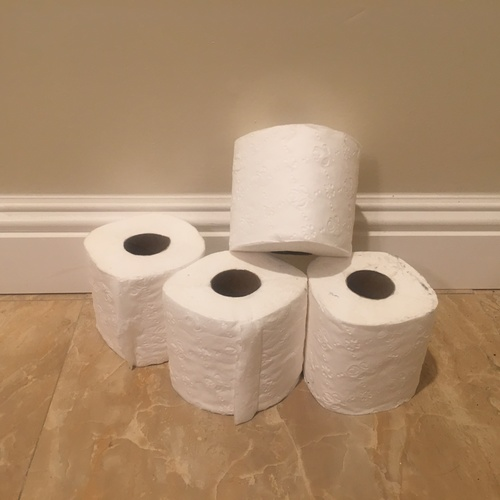roll: (163, 249, 308, 425), (301, 250, 441, 416), (81, 214, 204, 369), (227, 122, 360, 260)
